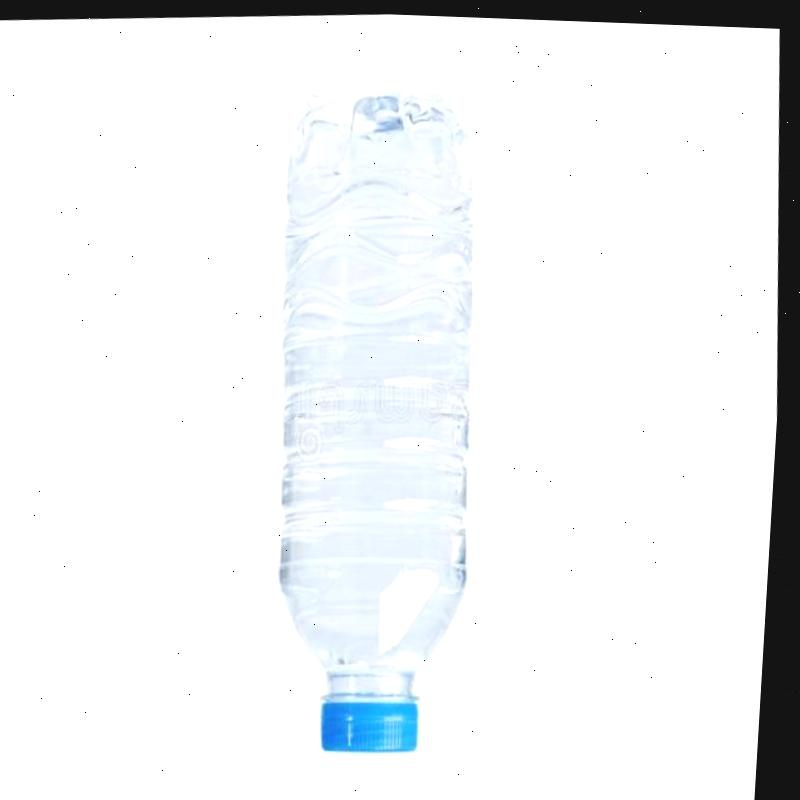botella: (249, 85, 512, 758)
